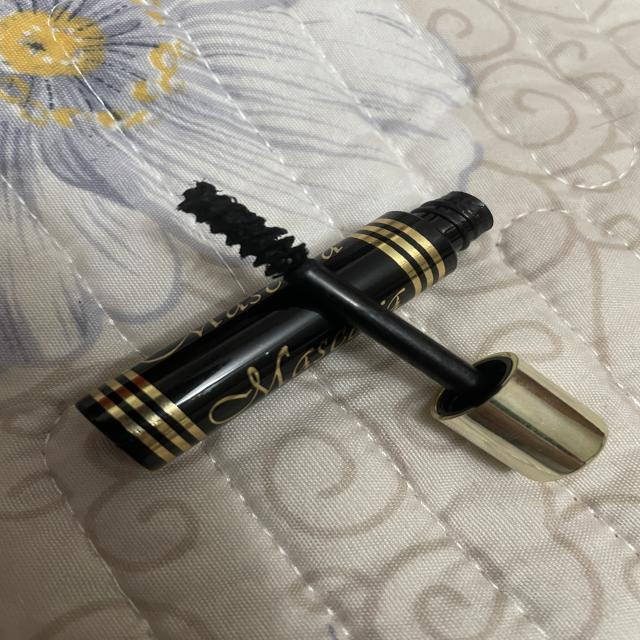mascara: (57, 158, 621, 506), (164, 154, 330, 296)
